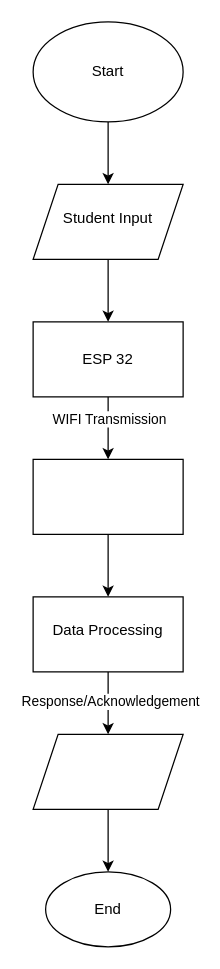
The diagram is 220 pixels wide and 969 high, and some of its shapes have lost their labels. The centre of each missing label's shape, as x and y in pixels:
Google Sheets API: the point at 107,496
LCD Display: the point at 107,771
